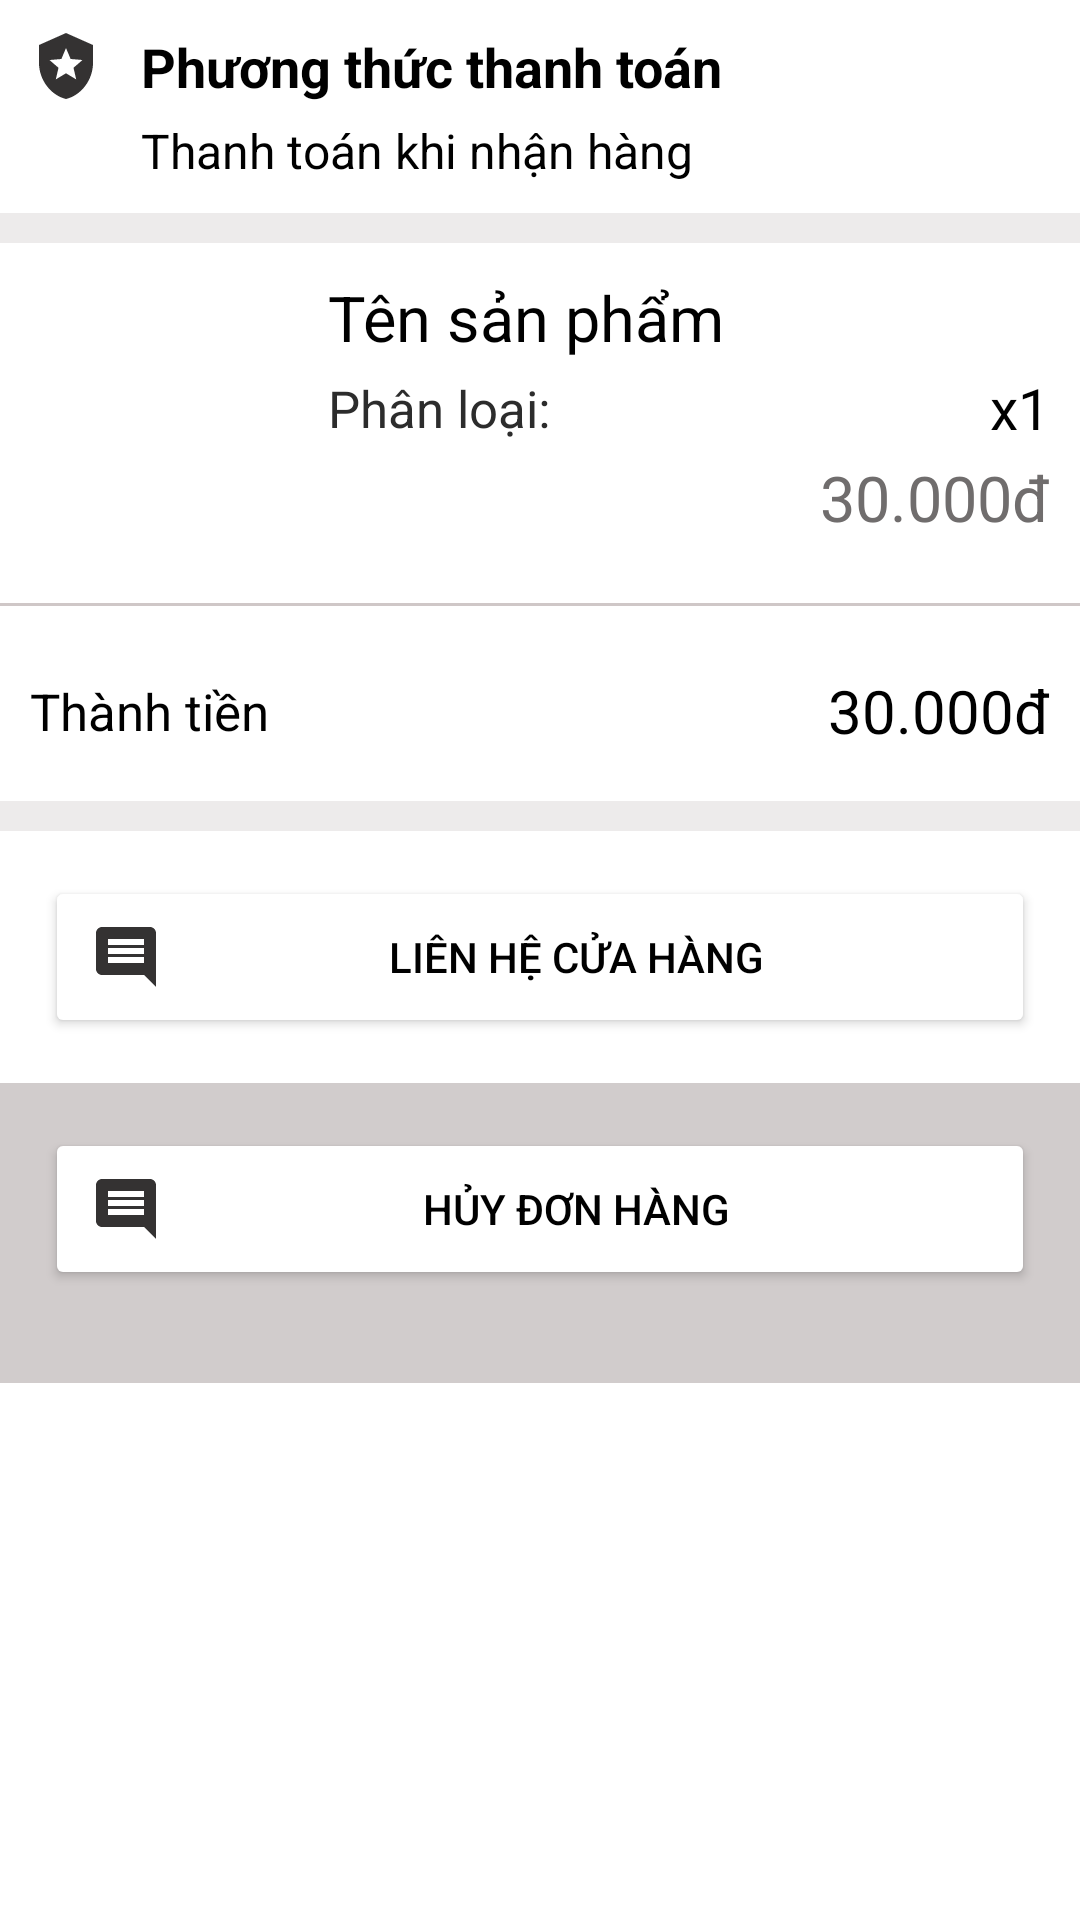

Screen size 1080×1920. Icon name, then its box in pixels as Rect(x1, y1, x2, y2):
local police: Rect(39, 33, 93, 99)
